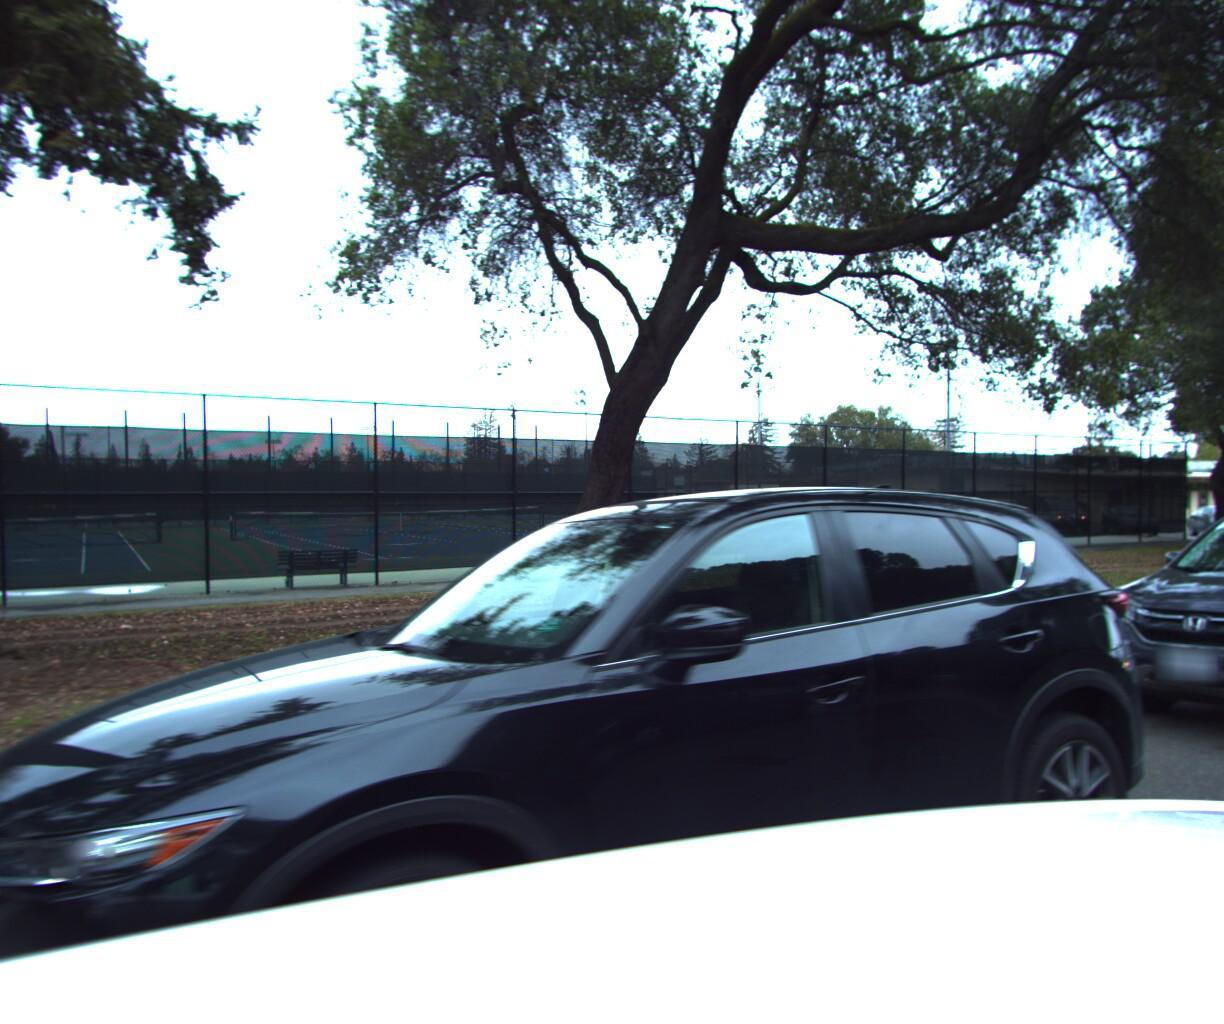car: (0, 453, 1224, 1024), (1046, 483, 1224, 794)
